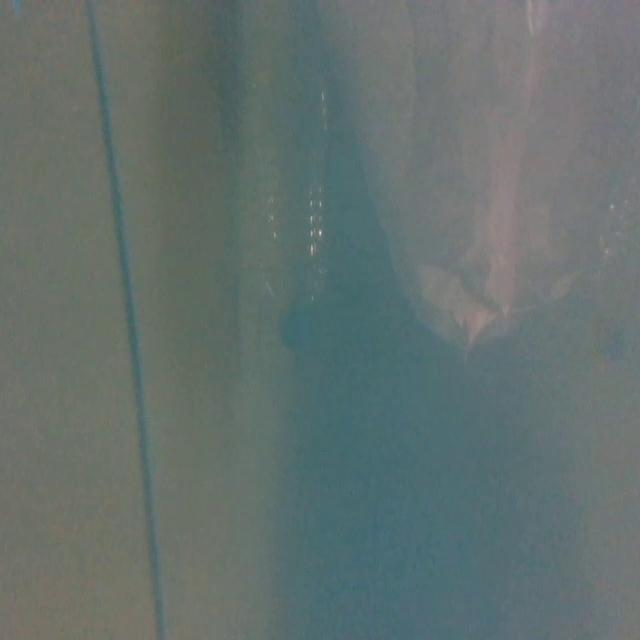plastic bags: (350, 4, 620, 361)
plastic bottle: (259, 71, 335, 349)
